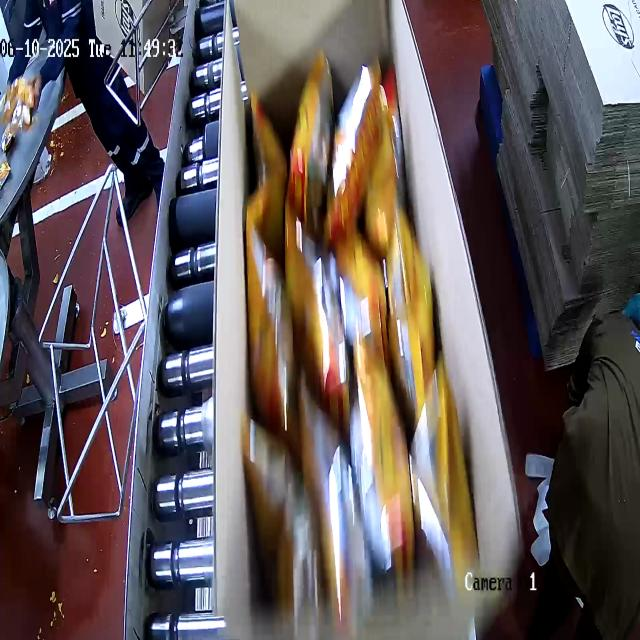FRENCH_CHEESE: (249, 81, 483, 634)
